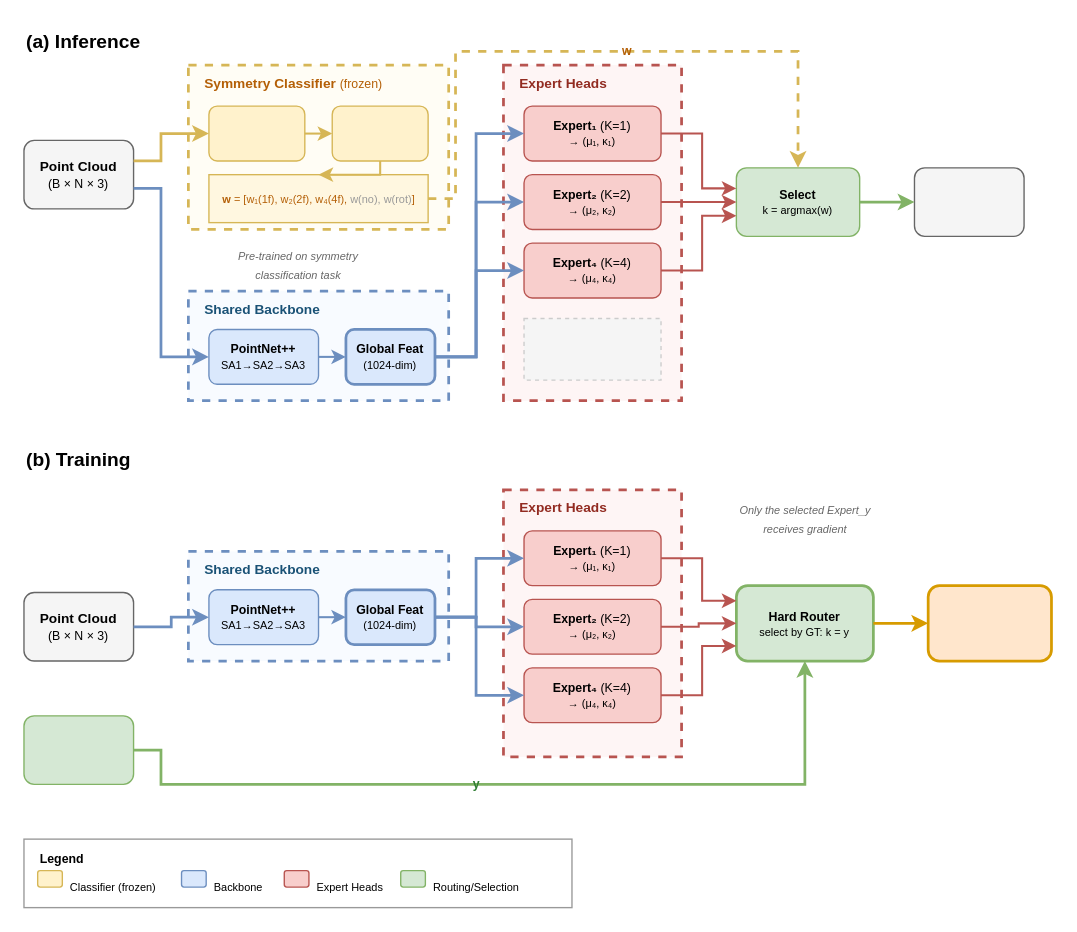
Some shapes in this 1077 by 932 pixel diagram are drawn without their labels. The shapes that lost their labels are listed below. From the top down, each one's centre as x and y in pixels, then its label:
At point 256,133: "PointNet++ Encoder".
At point 379,133: "FC Head Softmax".
At point 968,201: "Output (μₖ, κₖ)".
At point 592,348: "no-front / rot-sym → uniform dist.".
At point 989,623: "Loss ℒ_y von Mises NLL + Cosine Aux".
At point 78,749: "GT Label y ∈ {1, 2, 4}".
